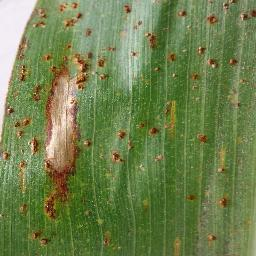Corn_Blight: (3, 44, 38, 181), (63, 36, 116, 105), (41, 52, 62, 223), (64, 103, 95, 212), (20, 0, 96, 35), (125, 18, 156, 65), (108, 124, 135, 171), (135, 114, 166, 145), (219, 0, 254, 27), (152, 42, 179, 74), (230, 76, 250, 116), (203, 53, 241, 72), (27, 227, 55, 252), (167, 233, 197, 256), (101, 222, 121, 255), (175, 73, 204, 95), (188, 128, 216, 150), (175, 2, 197, 24), (201, 11, 224, 30), (142, 152, 170, 167), (183, 188, 201, 208), (10, 199, 30, 217), (210, 228, 225, 251), (218, 192, 234, 213), (192, 42, 206, 61), (118, 4, 138, 17), (217, 162, 232, 175)
